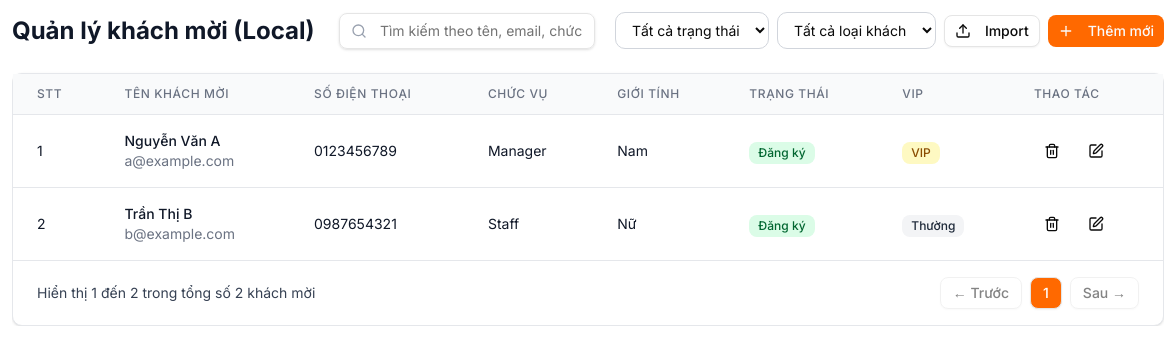
Test: QuanLyKhachMoiLocalPage (SUPERADMIN) › should filter persons by search term
Expected: the text "Nguyễn Văn A" is shown, [124, 131, 234, 151]
In the field with placeholder "Tìm kiếm theo tên, email, chức vụ...": (467, 30) [339, 12, 595, 48], type "Nguyễn"
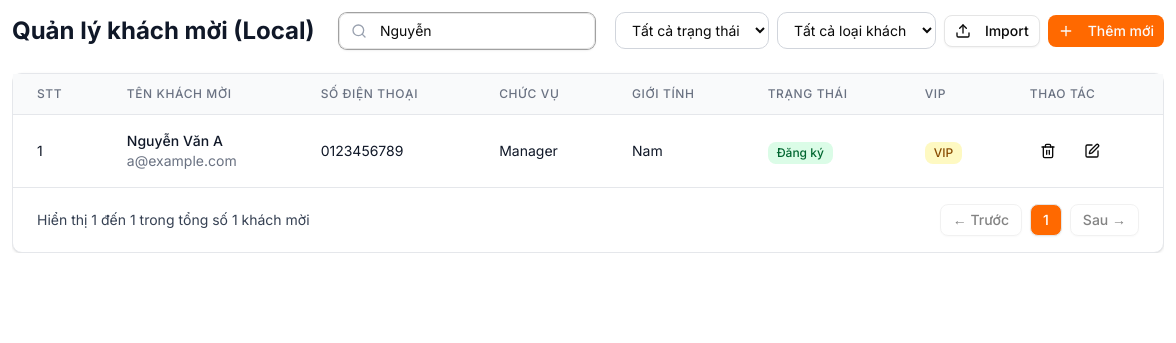
Expected: the text "Nguyễn Văn A" is shown, [127, 131, 237, 151]
Result: the text "Trần Thị B" is gone
